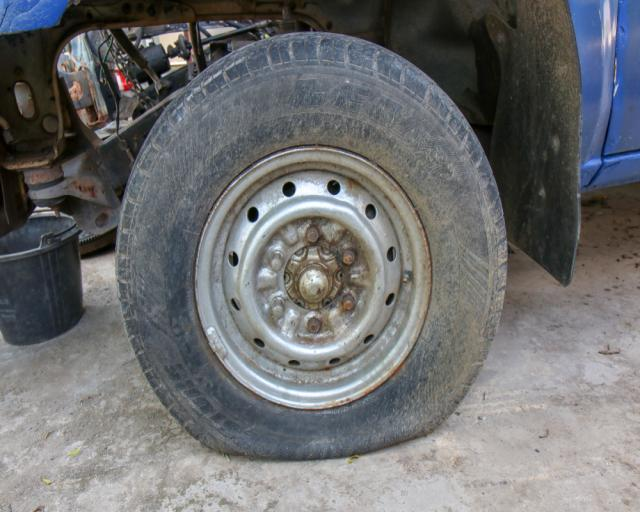tire flat: (116, 30, 506, 459)
